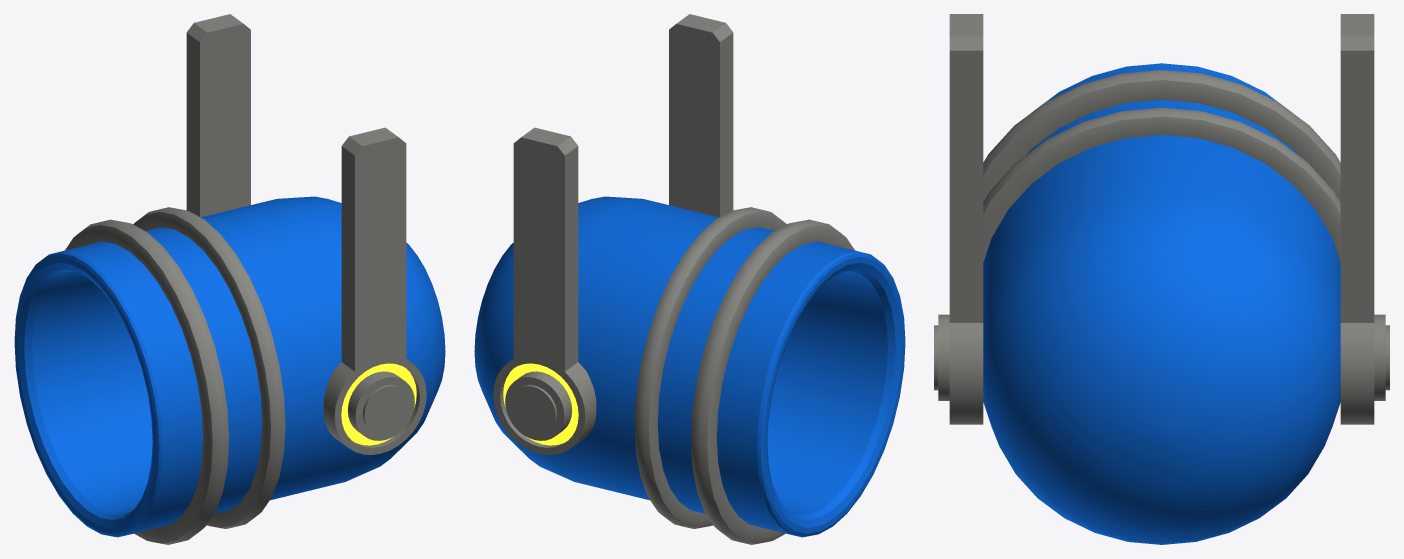
The model's file is cannon.fbx.
3 renders of one model, left to right at view 1: azimuth 30°, elevation 25°; view 2: azimuth 150°, elevation 25°; view 3: azimuth 270°, elevation 25°, orthographic. The views are drawn at different scales.
Parts seen in each view (by area): view 1: Cylinder, Circle; view 2: Cylinder, Circle; view 3: Cylinder, Circle.
Part boxes in pixels (box(x1,y1,x2,y2)): Cylinder: box(14, 196, 445, 544); Circle: box(186, 14, 426, 454); Cylinder: box(474, 196, 905, 544); Circle: box(493, 14, 733, 454); Cylinder: box(983, 63, 1340, 544); Circle: box(934, 14, 1389, 424).
Bounding box in the file's own units: 658 × 772 × 611.
